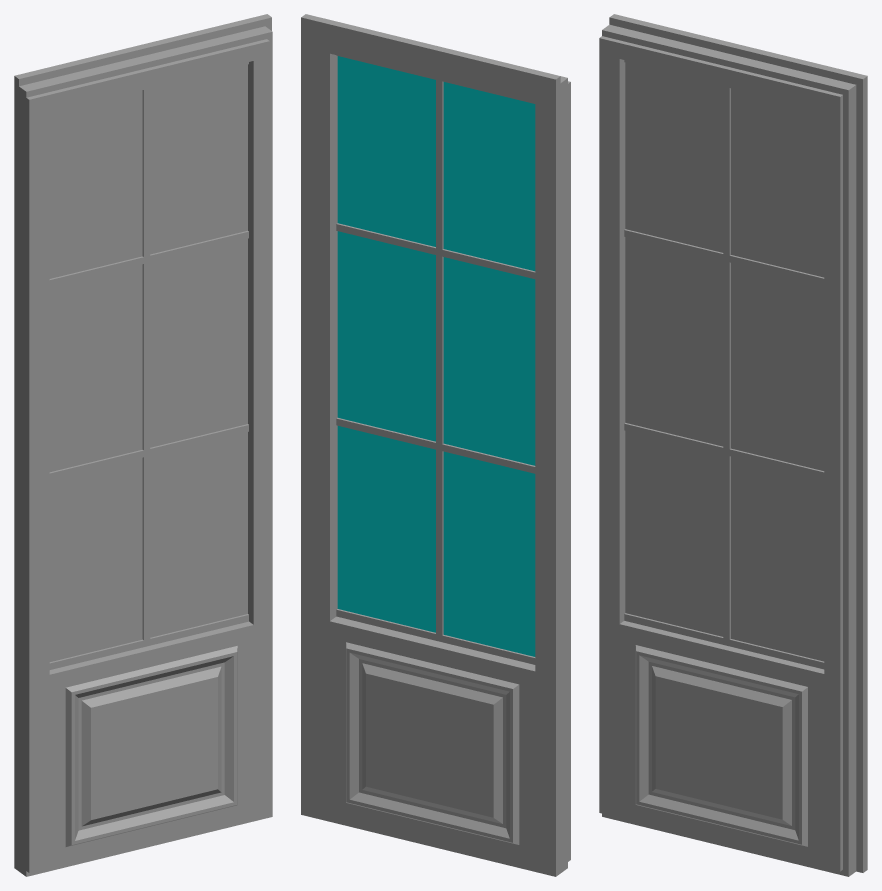
Rendered from Mesh_Door_04_Left.FBX.
The picture shows the model from 3 angles, left to right: view 1: azimuth 30°, elevation 25°; view 2: azimuth 150°, elevation 25°; view 3: azimuth 330°, elevation 25°; orthographic projection.
Parts seen in each view (by area): view 1: Mesh_Door_04_Left; view 2: Mesh_Door_04_Left; view 3: Mesh_Door_04_Left.
Boxes of the visible parts, left/top/right/bottom form: Mesh_Door_04_Left: left=14, top=14, right=272, bottom=876; Mesh_Door_04_Left: left=301, top=14, right=570, bottom=876; Mesh_Door_04_Left: left=599, top=14, right=867, bottom=876.
Size of the model in its own units: 0.786 by 2.35 by 0.11.
